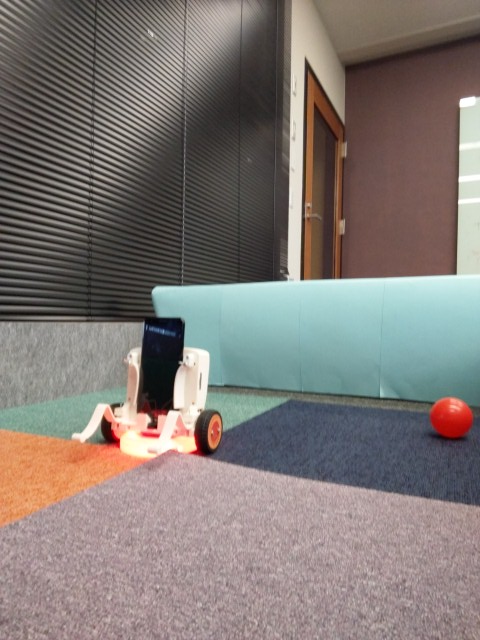f: (69, 307, 234, 461)
